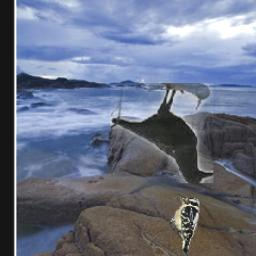Crow: (111, 83, 214, 183)
Woodpecker: (165, 197, 199, 256)
